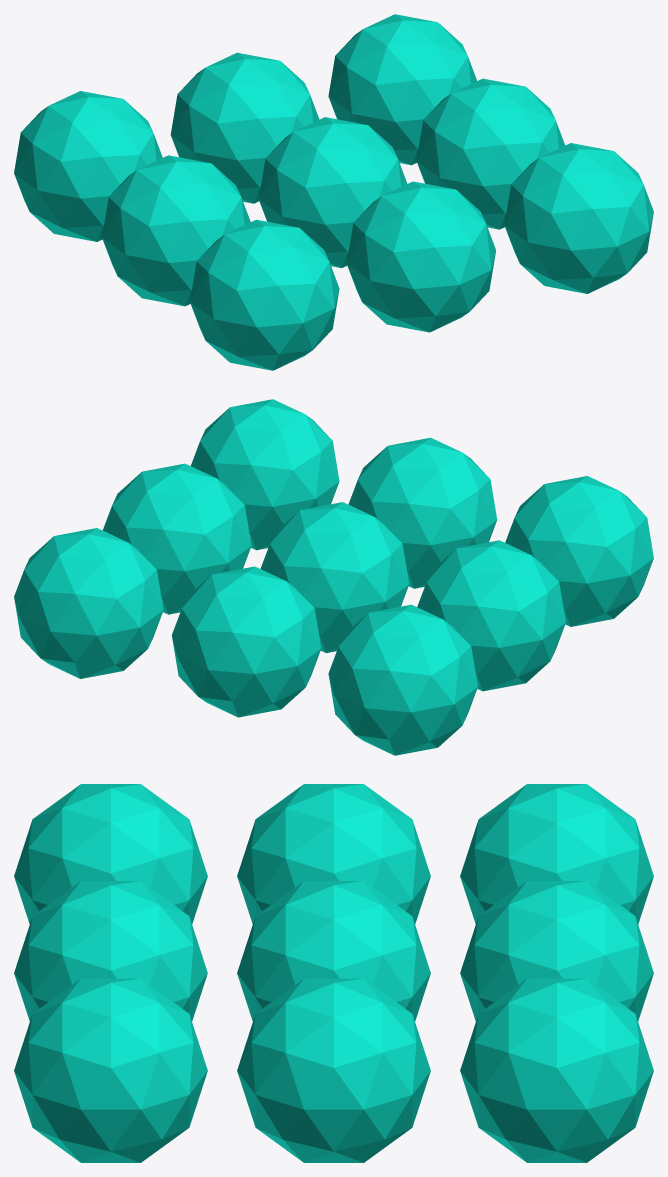
The model's file is DDOS.gltf.
The picture shows the model from 3 angles, top to bottom: view 1: azimuth 30°, elevation 25°; view 2: azimuth 150°, elevation 25°; view 3: azimuth 270°, elevation 25°; orthographic projection. The views are drawn at different scales.
Visible parts, largest first — view 1: 玩家棱角球.002, 玩家棱角球.003, 玩家棱角球.001, 玩家棱角球.004, 玩家棱角球.007, 玩家棱角球.006, 玩家棱角球.009, 玩家棱角球.005, 玩家棱角球.008; view 2: 玩家棱角球.008, 玩家棱角球.009, 玩家棱角球.007, 玩家棱角球.004, 玩家棱角球.001, 玩家棱角球.006, 玩家棱角球.003, 玩家棱角球.002, 玩家棱角球.005; view 3: 玩家棱角球.003, 玩家棱角球.009, 玩家棱角球.006, 玩家棱角球.005, 玩家棱角球.002, 玩家棱角球.008, 玩家棱角球.004, 玩家棱角球.007, 玩家棱角球.001.
Boxes of the visible parts, x1,y1,x2,y2 form: 玩家棱角球.002: [346, 181, 496, 332]; 玩家棱角球.003: [504, 143, 653, 293]; 玩家棱角球.001: [190, 219, 339, 370]; 玩家棱角球.004: [102, 155, 250, 306]; 玩家棱角球.007: [14, 91, 162, 241]; 玩家棱角球.006: [416, 78, 565, 229]; 玩家棱角球.009: [328, 14, 476, 165]; 玩家棱角球.005: [258, 117, 407, 267]; 玩家棱角球.008: [170, 52, 319, 203]; 玩家棱角球.008: [171, 566, 321, 717]; 玩家棱角球.009: [14, 528, 163, 678]; 玩家棱角球.007: [328, 604, 477, 755]; 玩家棱角球.004: [417, 540, 565, 691]; 玩家棱角球.001: [505, 476, 653, 626]; 玩家棱角球.006: [102, 463, 251, 614]; 玩家棱角球.003: [191, 399, 339, 550]; 玩家棱角球.002: [348, 437, 497, 588]; 玩家棱角球.005: [260, 502, 409, 652]; 玩家棱角球.003: [14, 978, 207, 1162]; 玩家棱角球.009: [460, 978, 653, 1162]; 玩家棱角球.006: [237, 978, 430, 1162]; 玩家棱角球.005: [237, 881, 430, 1021]; 玩家棱角球.002: [14, 881, 207, 1021]; 玩家棱角球.008: [460, 881, 653, 1021]; 玩家棱角球.004: [237, 784, 430, 924]; 玩家棱角球.007: [460, 784, 653, 924]; 玩家棱角球.001: [14, 784, 207, 924].
Size of the model in its own units: 1.42 by 0.4273 by 1.41.
